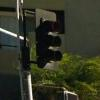Traffic light: (26, 10, 69, 76)
